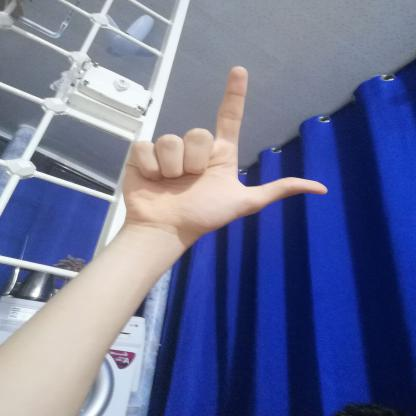LAAM: (109, 50, 343, 246)
